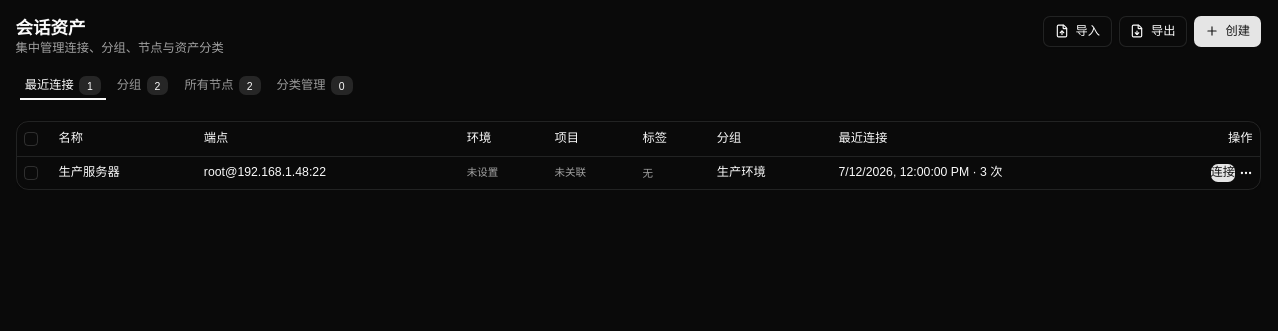
Test: SessionAssetCenter › opens a folder in the filtered node tab
Click the tab "分组 2" at (143, 86), box x1=111 y1=75 x2=175 y2=96
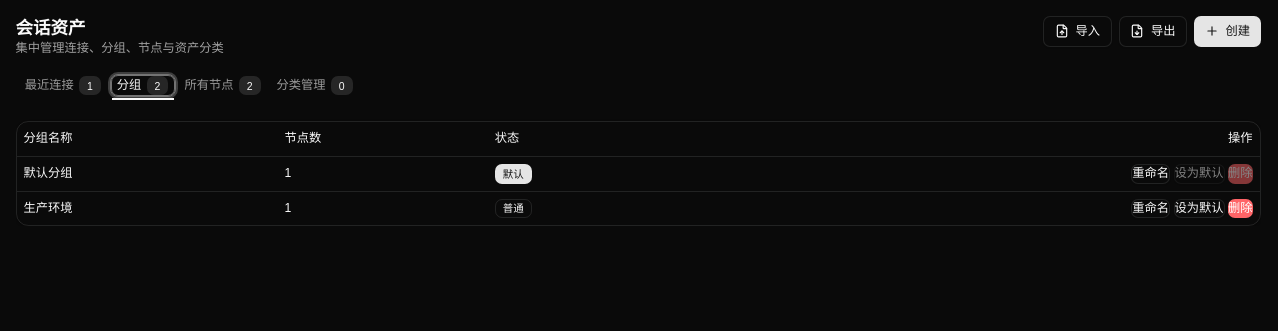
Click the button "生产环境" at (48, 208), box x1=24 y1=200 x2=72 y2=217
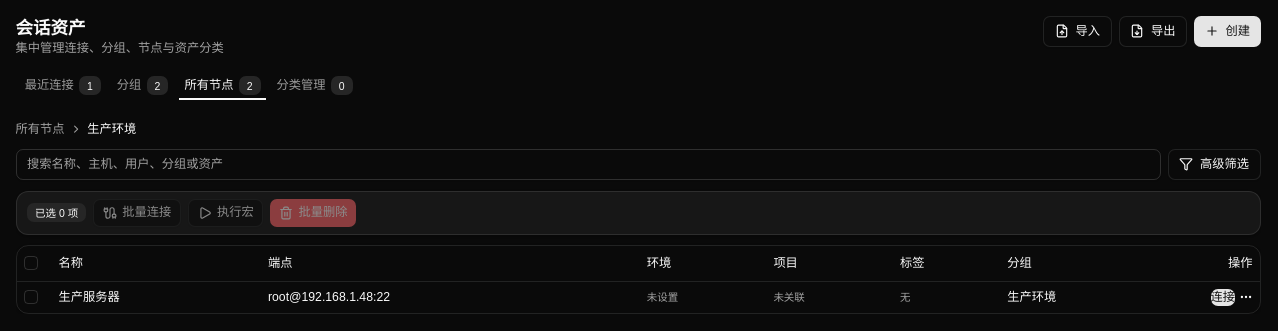
Check: the text "生产服务器" is shown, box x1=52 y1=281 x2=261 y2=313
